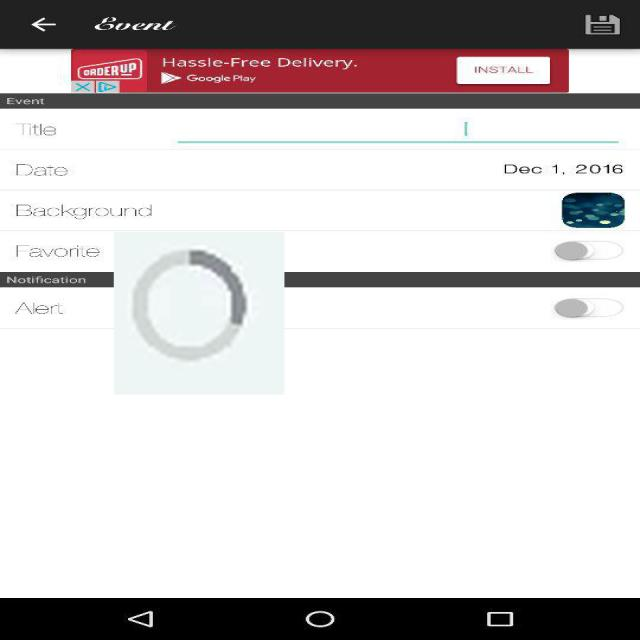misdirection: (114, 232, 284, 395)
